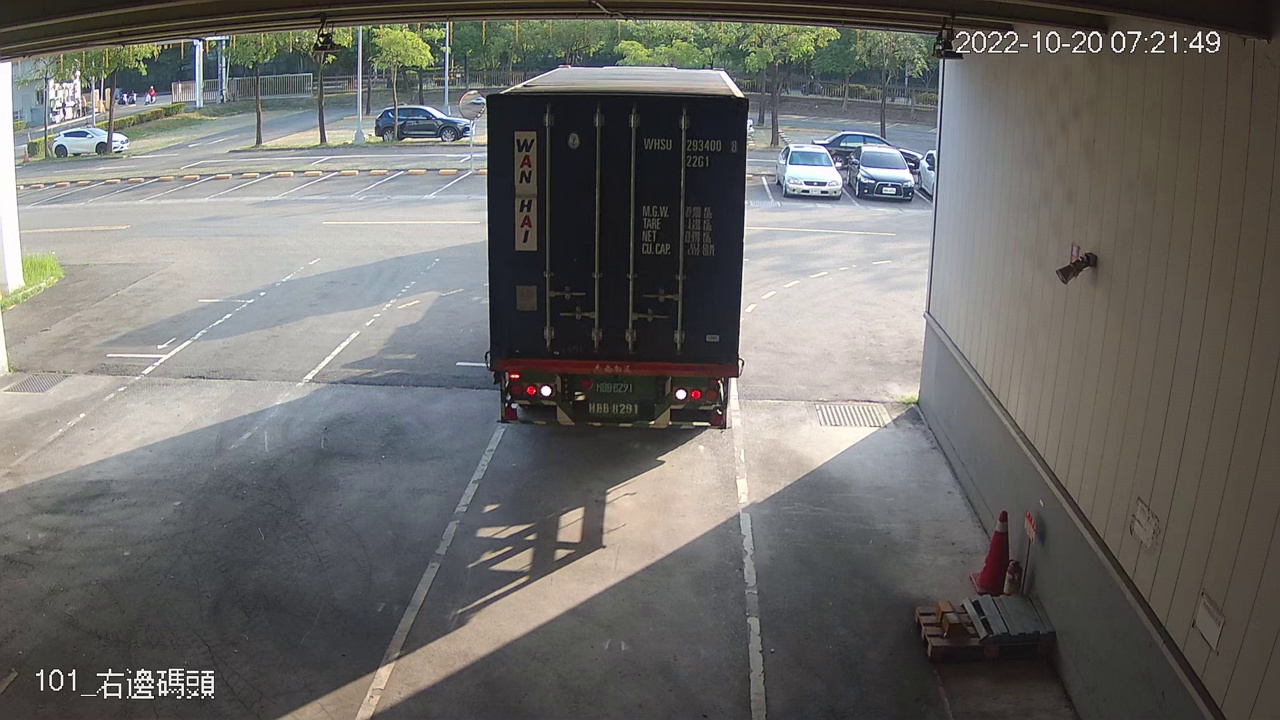container: (639, 129, 743, 170)
